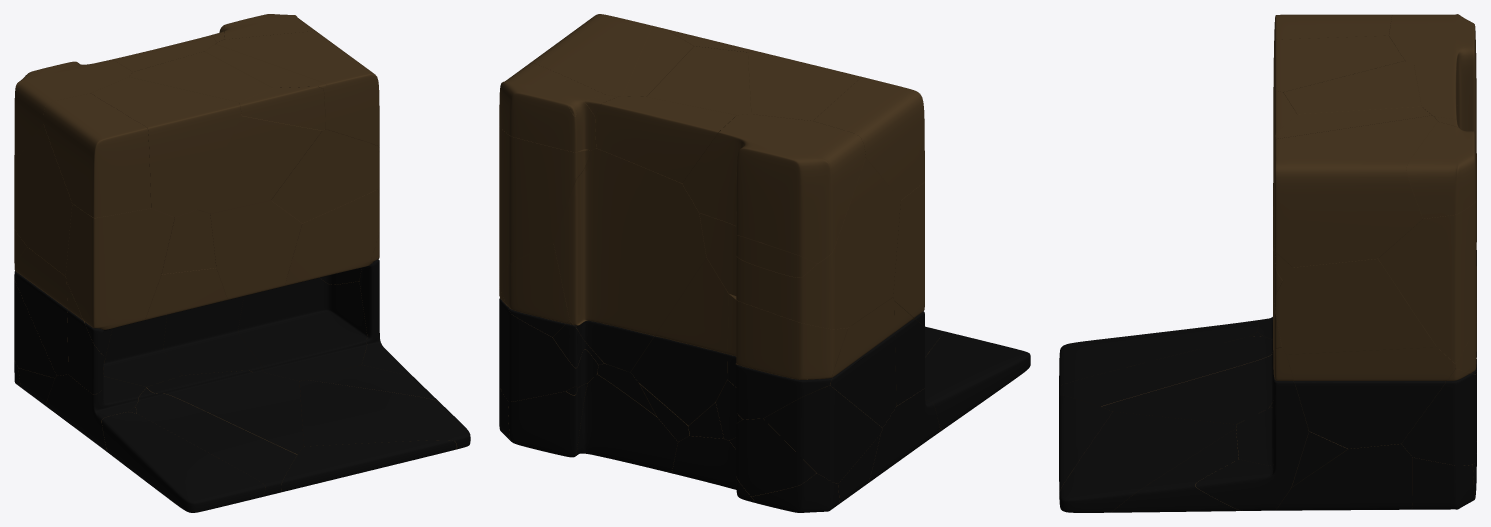
Rendered from PC_cell.fbx.
3 renders of one model, left to right at view 1: azimuth 30°, elevation 25°; view 2: azimuth 150°, elevation 25°; view 3: azimuth 270°, elevation 25°, orthographic. The views are drawn at different scales.
Parts seen in each view (by area): view 1: Cube.001_cell.043, Cube.001_cell.029, Cube.001_cell.041, Cube.001_cell.014, Cube.001_cell.057, Cube.001_cell.002, Cube.001_cell.007, Cube.001_cell.013, Cube.001_cell.065, Cube.001_cell.027, Cube.001_cell.001, Cube.001_cell.010 (+19 smaller); view 2: Cube.001_cell.063, Cube.001_cell.034, Cube.001_cell.003, Cube.001_cell.047, Cube.001_cell.033, Cube.001_cell.016, Cube.001_cell.036, Cube.001_cell.057, Cube.001_cell.044, Cube.001_cell, Cube.001_cell.002, Cube.001_cell.054 (+22 smaller); view 3: Cube.001_cell.013, Cube.001_cell.035, Cube.001_cell.053, Cube.001_cell.016, Cube.001_cell.007, Cube.001_cell.064, Cube.001_cell.026, Cube.001_cell.065, Cube.001_cell.010, Cube.001_cell.002, Cube.001_cell.034, Cube.001_cell.044 (+12 smaller).
Part boxes in pixels (box(x1,y1,x2,y2)): Cube.001_cell.043: box(91, 77, 241, 217); Cube.001_cell.029: box(65, 204, 174, 354); Cube.001_cell.041: box(238, 278, 367, 381); Cube.001_cell.014: box(129, 51, 321, 213); Cube.001_cell.057: box(43, 93, 150, 217); Cube.001_cell.002: box(102, 412, 265, 512); Cube.001_cell.007: box(299, 380, 470, 449); Cube.001_cell.013: box(216, 31, 379, 146); Cube.001_cell.065: box(146, 370, 303, 454); Cube.001_cell.027: box(210, 200, 302, 300); Cube.001_cell.001: box(271, 129, 379, 223); Cube.001_cell.010: box(135, 387, 297, 496); Cube.001_cell.063: box(553, 148, 706, 372); Cube.001_cell.034: box(682, 114, 865, 263); Cube.001_cell.003: box(699, 158, 900, 329); Cube.001_cell.047: box(727, 293, 848, 419); Cube.001_cell.033: box(630, 258, 728, 425); Cube.001_cell.016: box(499, 127, 591, 276); Cube.001_cell.036: box(595, 96, 736, 183); Cube.001_cell.057: box(813, 77, 924, 200); Cube.001_cell.044: box(499, 63, 606, 152); Cube.001_cell: box(763, 385, 882, 483); Cube.001_cell.002: box(925, 331, 1030, 429); Cube.001_cell.054: box(575, 374, 677, 471); Cube.001_cell.013: box(1273, 115, 1437, 267); Cube.001_cell.035: box(1286, 347, 1455, 448); Cube.001_cell.053: box(1274, 258, 1436, 354); Cube.001_cell.016: box(1378, 188, 1476, 363); Cube.001_cell.007: box(1059, 412, 1236, 512); Cube.001_cell.064: box(1275, 444, 1412, 510); Cube.001_cell.026: box(1195, 347, 1308, 510); Cube.001_cell.065: box(1101, 350, 1274, 424); Cube.001_cell.010: box(1059, 336, 1272, 406); Cube.001_cell.002: box(1059, 320, 1258, 389); Cube.001_cell.034: box(1389, 14, 1476, 136); Cube.001_cell.044: box(1406, 122, 1476, 218).
Bounding box in the file's own units: 453 × 462 × 503.
